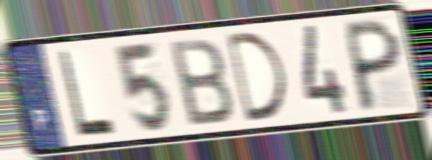4: (302, 22, 349, 118)
5: (111, 37, 174, 135)
B: (166, 35, 237, 129)
D: (223, 29, 291, 125)
L: (56, 48, 118, 140)
P: (344, 15, 403, 114)
